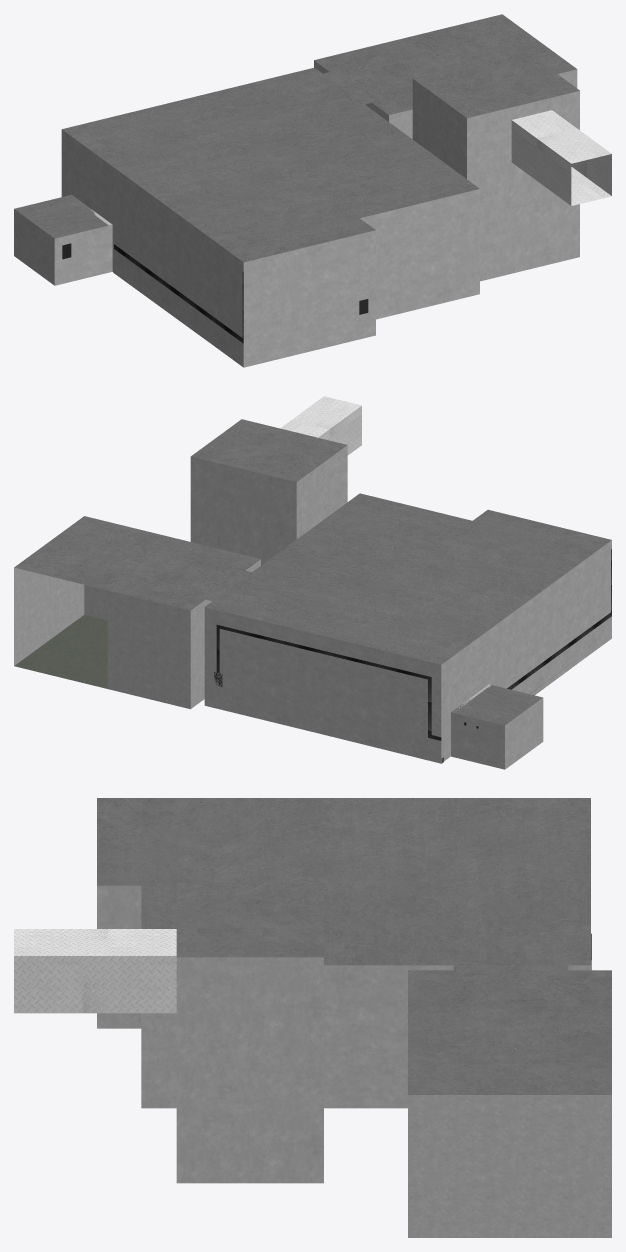
Rendered from Room_13.fbx.
3 renders of one model, top to bottom at view 1: azimuth 30°, elevation 25°; view 2: azimuth 150°, elevation 25°; view 3: azimuth 270°, elevation 25°, orthographic. The views are drawn at different scales.
Visible parts, largest first — view 1: Cube.063, Cube.130, Cube.068, Cube.065, Cube.173; view 2: Cube.130, Cube.063, Cube.065, Cube.068, Cube.171, Cube.173; view 3: Cube.130, Cube.063, Cube.065, Cube.068.
Boxes of the visible parts, bbox=[...] form: Cube.063: bbox=[14, 79, 579, 367]; Cube.130: bbox=[14, 14, 579, 262]; Cube.068: bbox=[511, 110, 611, 205]; Cube.065: bbox=[314, 60, 577, 138]; Cube.173: bbox=[114, 244, 243, 343]; Cube.130: bbox=[14, 419, 611, 725]; Cube.063: bbox=[190, 445, 611, 769]; Cube.065: bbox=[14, 559, 260, 709]; Cube.068: bbox=[280, 396, 361, 455]; Cube.171: bbox=[216, 625, 441, 740]; Cube.173: bbox=[507, 549, 611, 689]; Cube.130: bbox=[97, 798, 611, 1094]; Cube.063: bbox=[97, 885, 590, 1183]; Cube.065: bbox=[408, 1095, 611, 1237]; Cube.068: bbox=[14, 929, 176, 1013].
Size of the model in its own units: 2570 by 807 by 1938.
